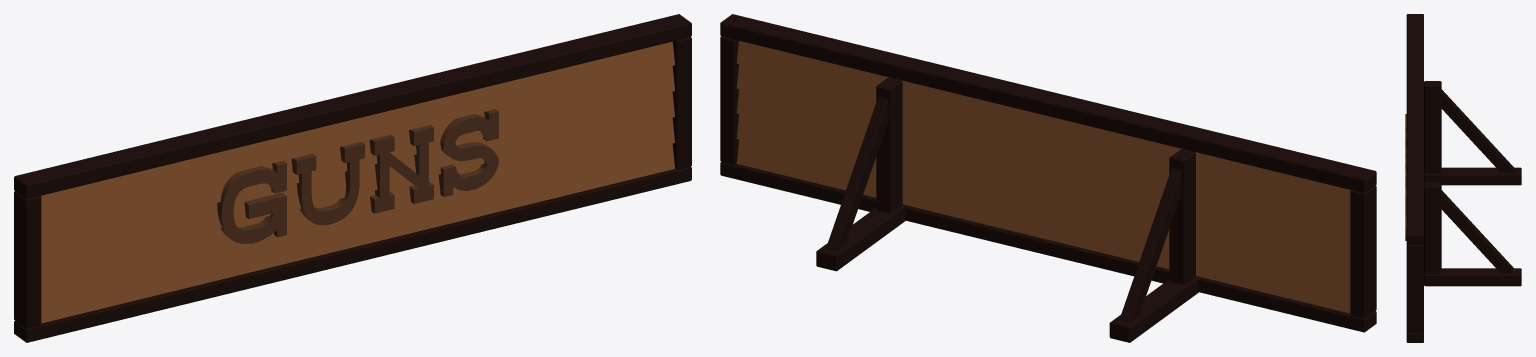
Rendered from ww_gun_sign_a.glb.
The picture shows the model from 3 angles, left to right: view 1: azimuth 30°, elevation 25°; view 2: azimuth 150°, elevation 25°; view 3: azimuth 270°, elevation 25°; orthographic projection. The views are drawn at different scales.
Parts seen in each view (by area): view 1: Guns_Sign_A; view 2: Guns_Sign_A; view 3: Guns_Sign_A.
Boxes of the visible parts, bbox=[...] form: Guns_Sign_A: bbox=[14, 14, 691, 342]; Guns_Sign_A: bbox=[720, 14, 1376, 342]; Guns_Sign_A: bbox=[1405, 14, 1521, 342].
Bounding box in the file's own units: 10.56 × 2.4 × 2.34.
